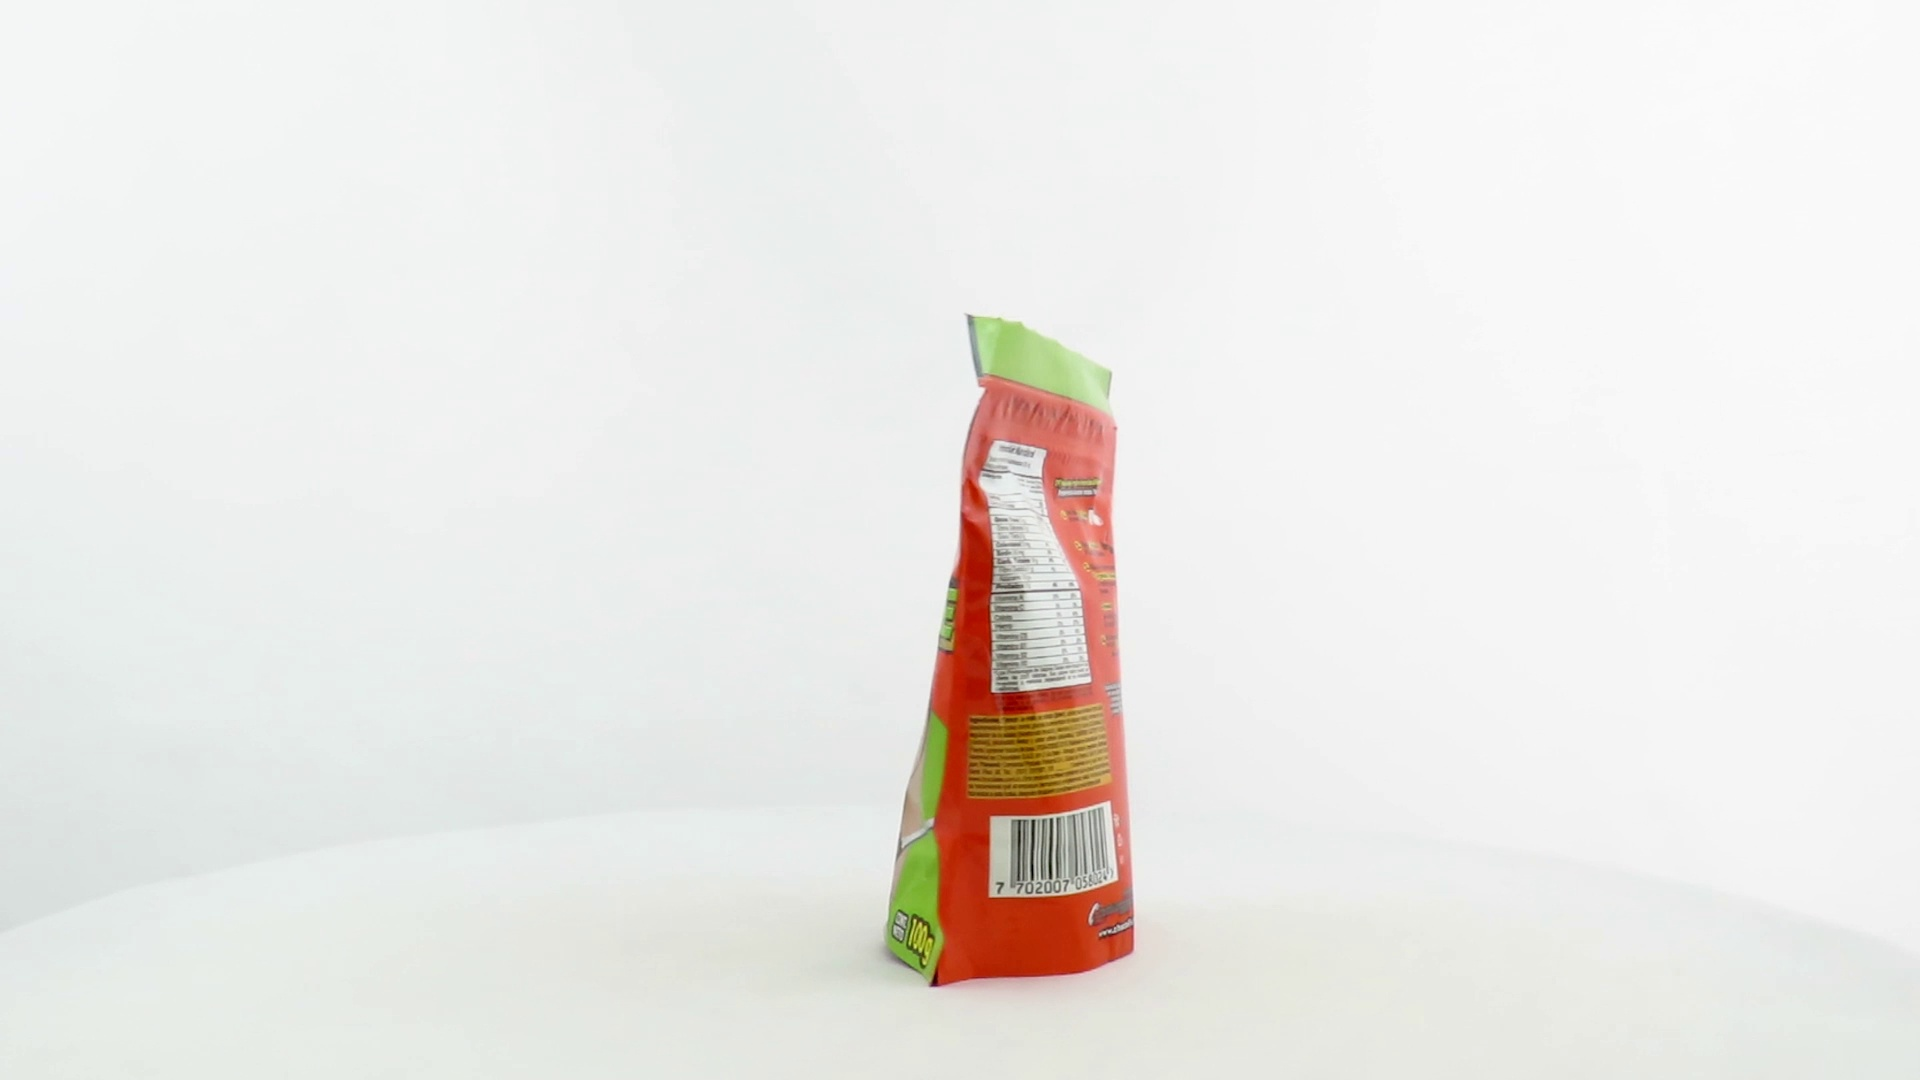COL0170102DYP10000: (874, 309, 1141, 993)
